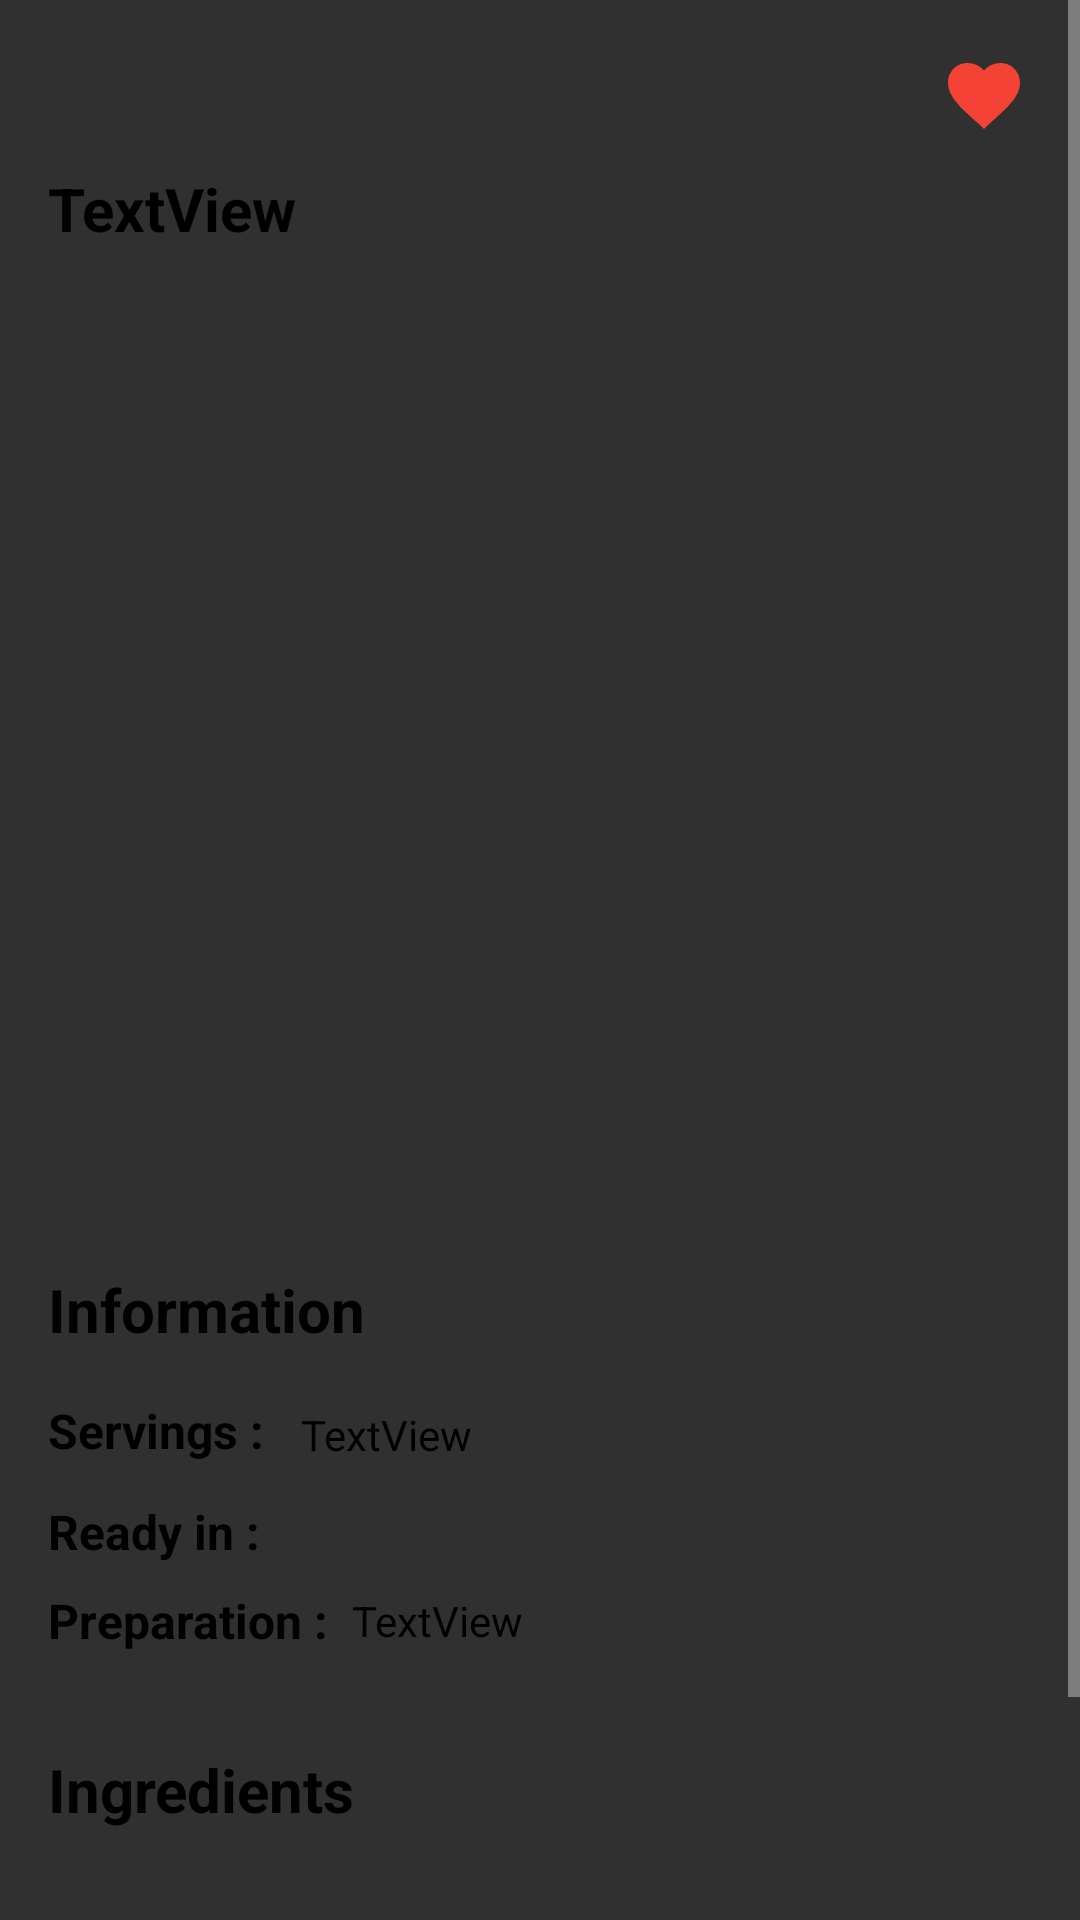

Locate icon controls on the screen. Image size 1080w x 1920h, boxes as [x1=x1, y1=y1, x2=x2, y2=y2].
heart: [x1=948, y1=63, x2=1020, y2=129]
